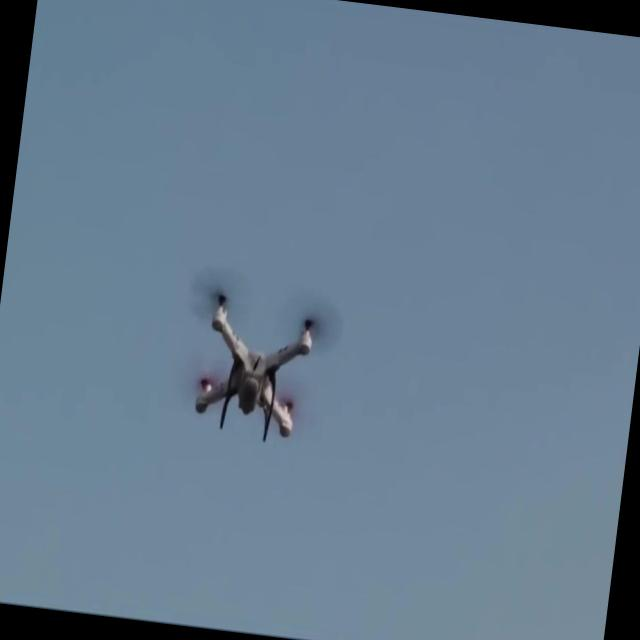drone: (183, 281, 326, 446)
